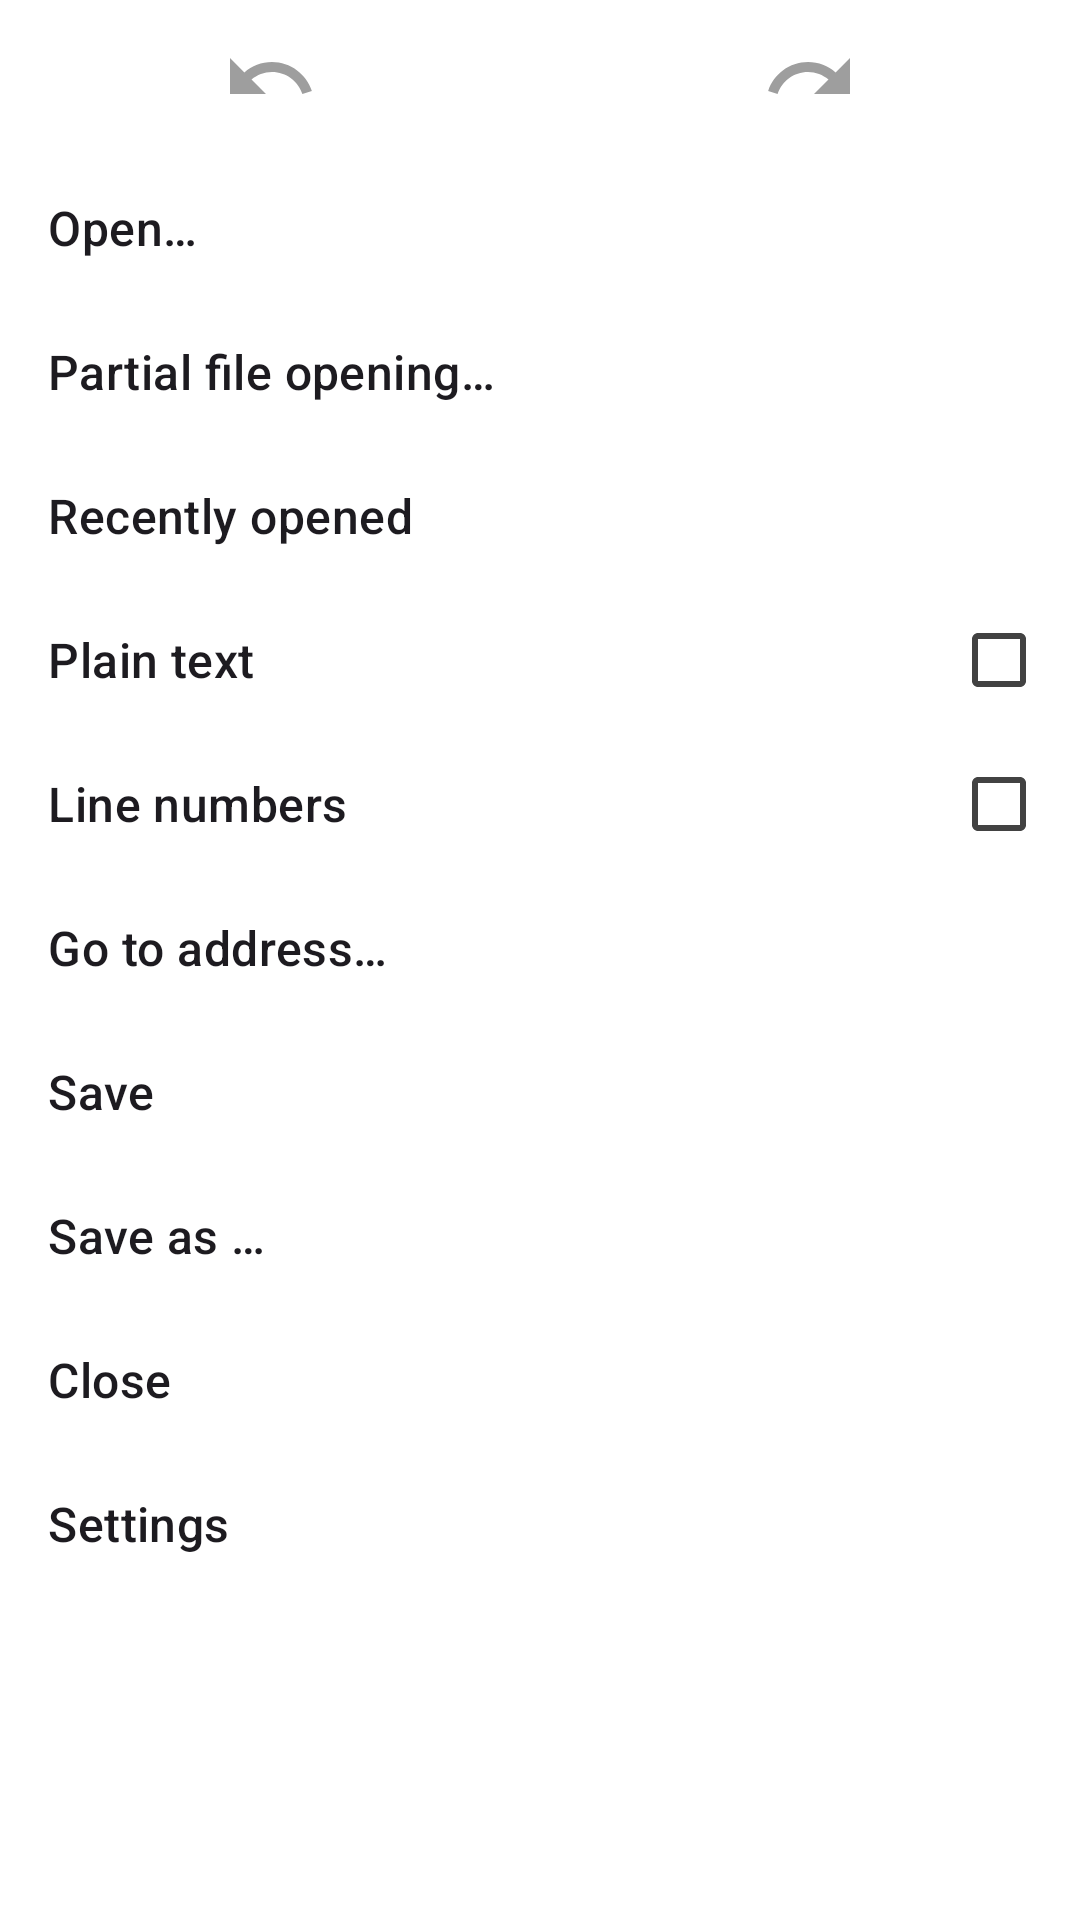

Point at icon controls on the screen. Image size 1080px x 1920px, points as [x,y].
Redo: [809,76]
Undo: [271,76]
